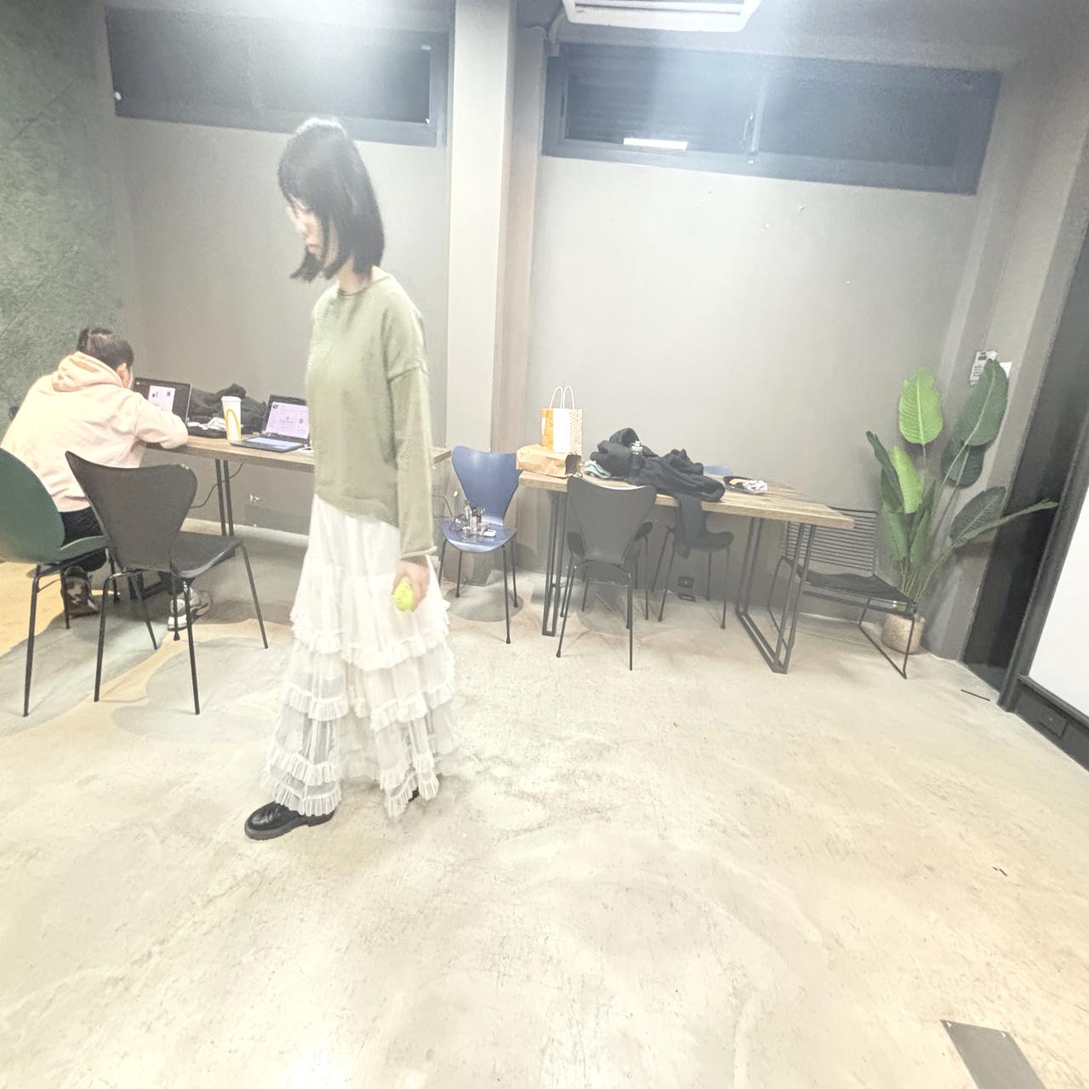person: (245, 119, 458, 839), (1, 328, 214, 633)
tennisball: (393, 582, 413, 612)
